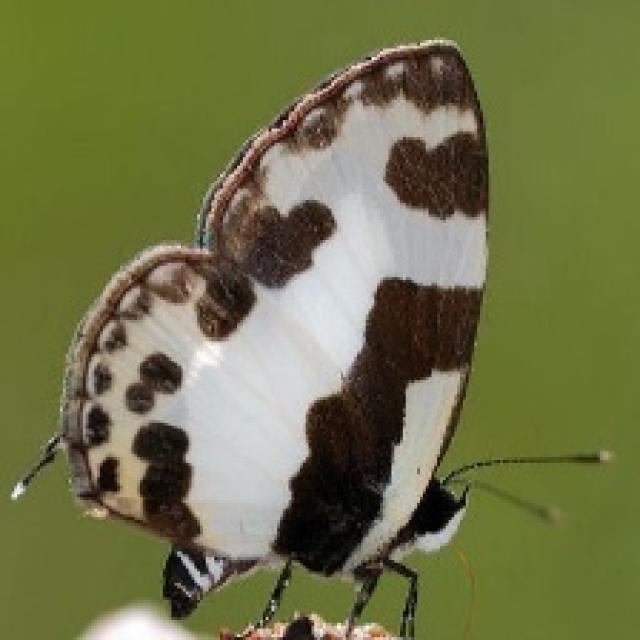butterfly: (9, 34, 614, 637)
